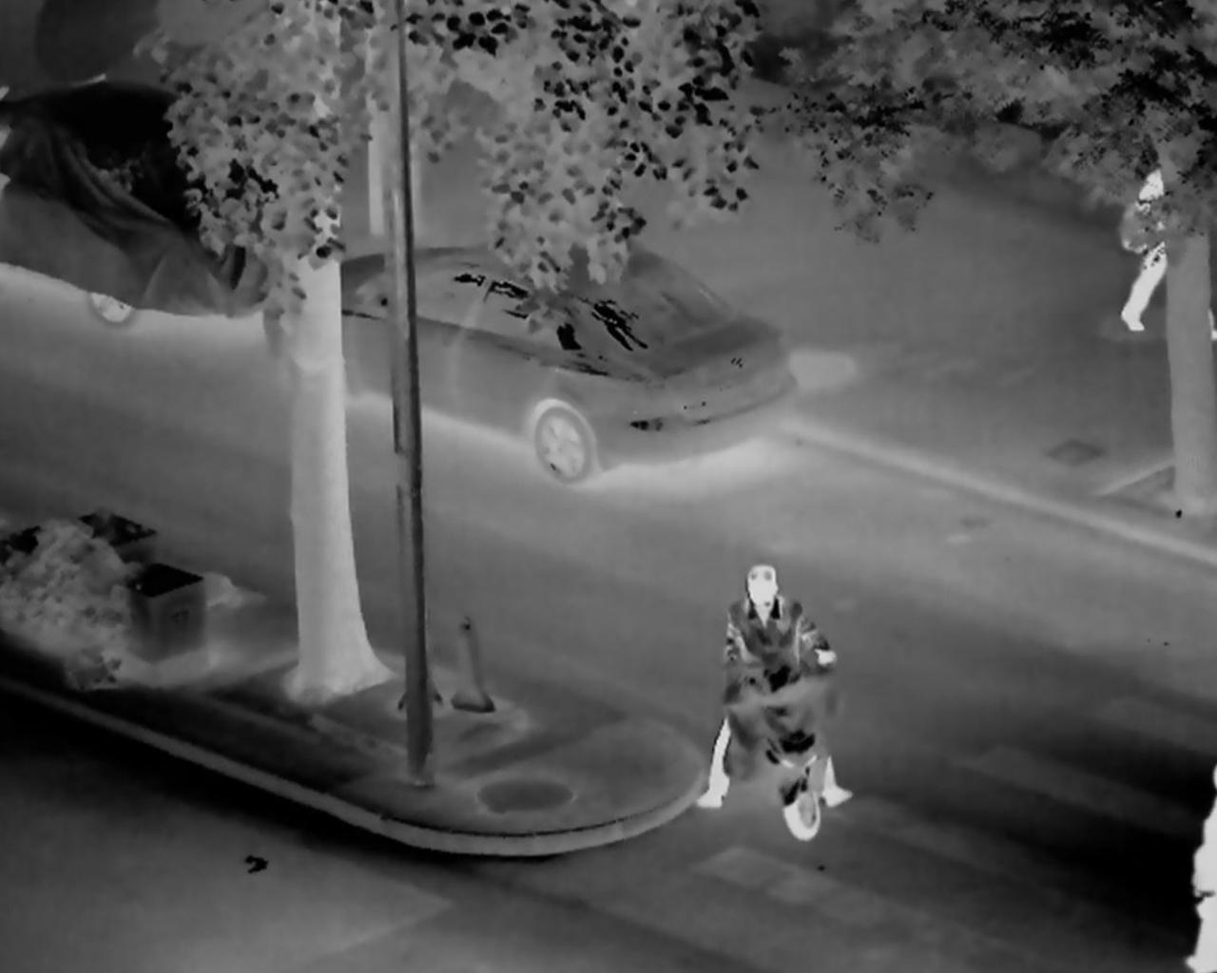person: (694, 563, 845, 816), (1106, 136, 1217, 364)
